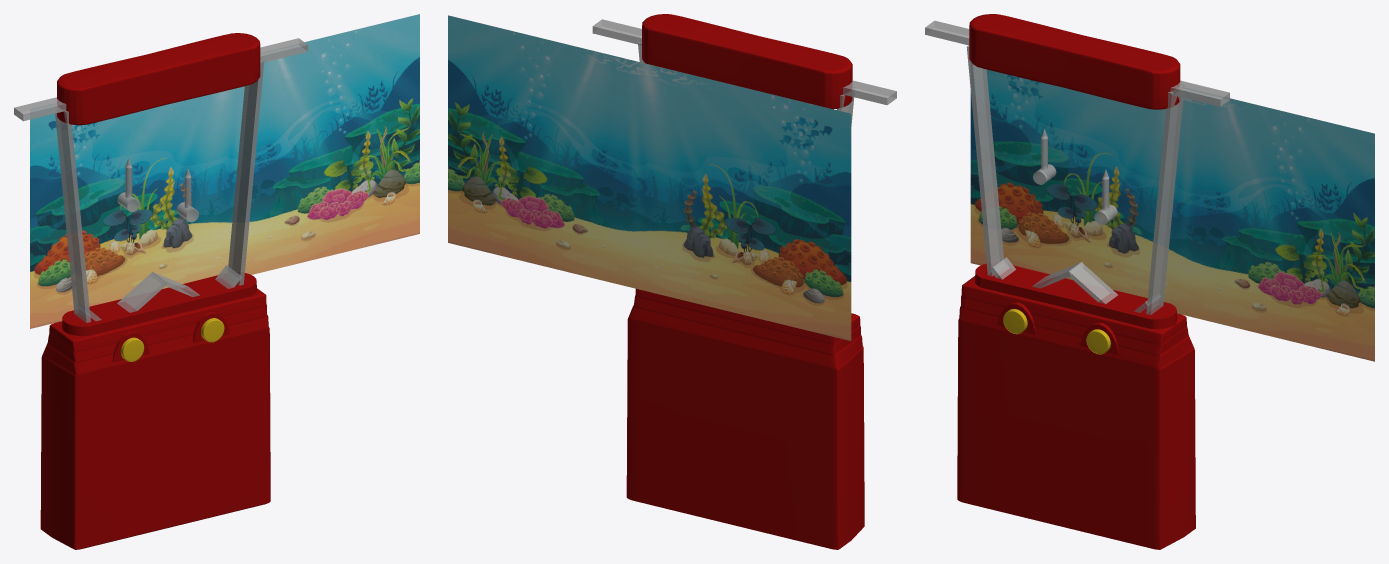
The model's file is toyMesh2.dae.
3 renders of one model, left to right at view 1: azimuth 30°, elevation 25°; view 2: azimuth 150°, elevation 25°; view 3: azimuth 330°, elevation 25°, orthographic. The views are drawn at different scales.
Parts seen in each view (by area): view 1: gameToy5, rightBar_ncl1_2, leftBar_ncl1_1, topBar_ncl1_1, bottomLeftArch; view 2: gameToy5, topBar_ncl1_1; view 3: gameToy5, leftBar_ncl1_1, rightBar_ncl1_2, topBar_ncl1_1, bottomRightArch.
Part boxes in pixels (x1=…): gameToy5: x1=30, y1=14, x2=419, y2=549; rightBar_ncl1_2: x1=228, y1=59, x2=264, y2=285; leftBar_ncl1_1: x1=55, y1=111, x2=90, y2=322; topBar_ncl1_1: x1=14, y1=38, x2=307, y2=121; bottomLeftArch: x1=117, y1=271, x2=167, y2=312; gameToy5: x1=448, y1=14, x2=864, y2=549; topBar_ncl1_1: x1=592, y1=19, x2=896, y2=105; gameToy5: x1=957, y1=14, x2=1374, y2=549; leftBar_ncl1_1: x1=966, y1=45, x2=1003, y2=276; rightBar_ncl1_2: x1=1146, y1=85, x2=1183, y2=314; topBar_ncl1_1: x1=925, y1=20, x2=1229, y2=106; bottomRightArch: x1=1067, y1=262, x2=1117, y2=304.
Bounding box in the file's own units: 7.02 × 7.35 × 0.945.
